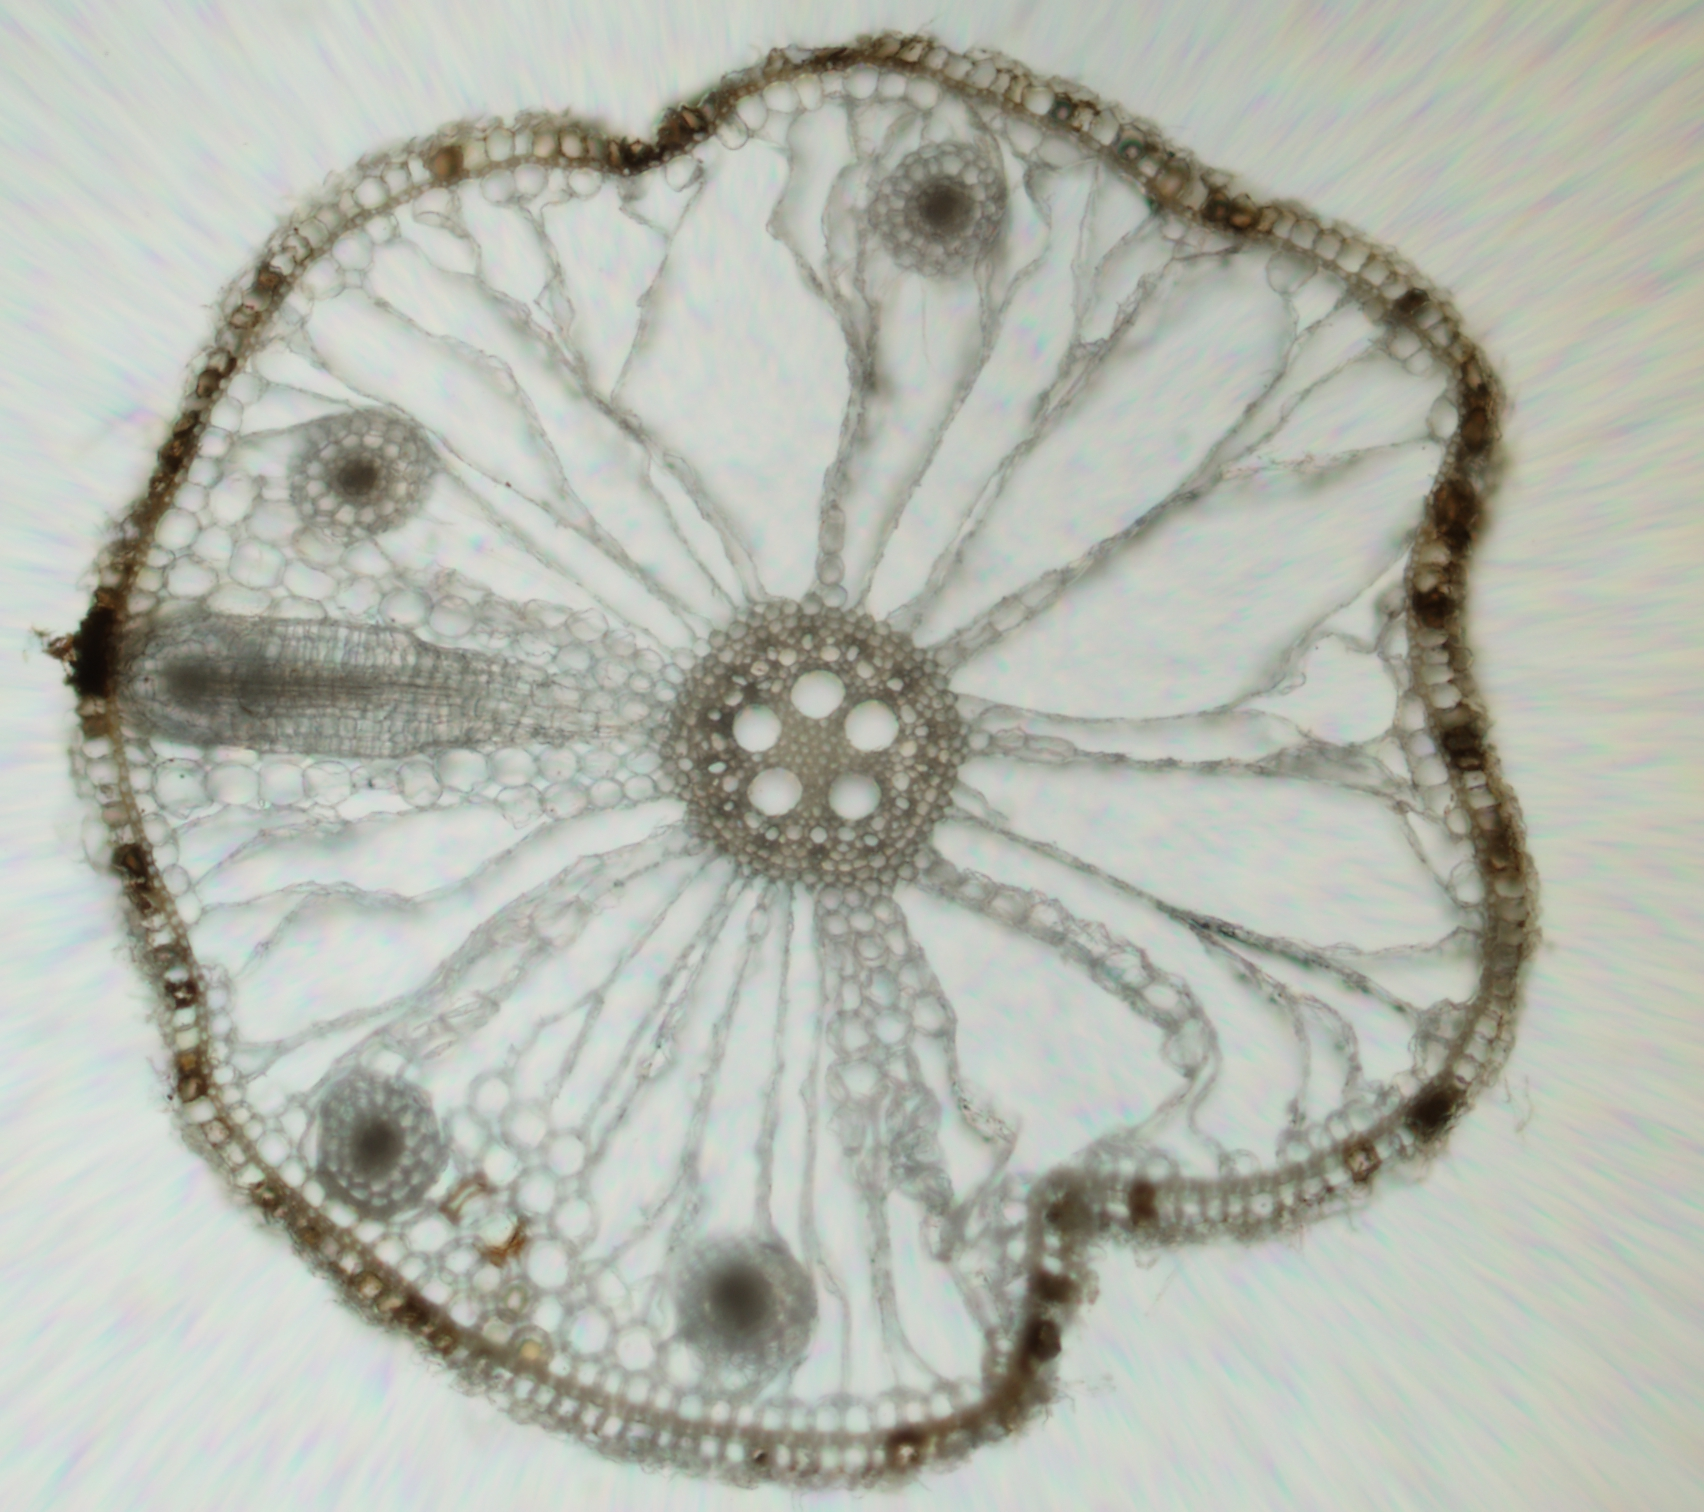lm: (845, 699, 899, 752), (791, 668, 846, 720), (829, 771, 883, 820), (747, 766, 802, 814), (732, 703, 782, 753)
